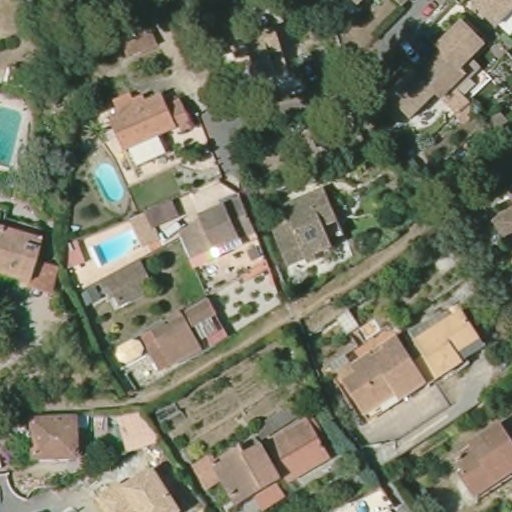pool: (85, 227, 145, 268), (1, 96, 31, 177), (92, 159, 131, 206)
